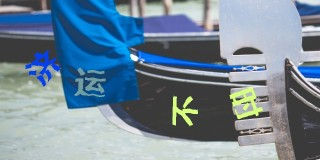不: (172, 95, 199, 127)
时: (230, 86, 263, 119)
济: (24, 50, 60, 87)
运: (73, 64, 108, 98)
